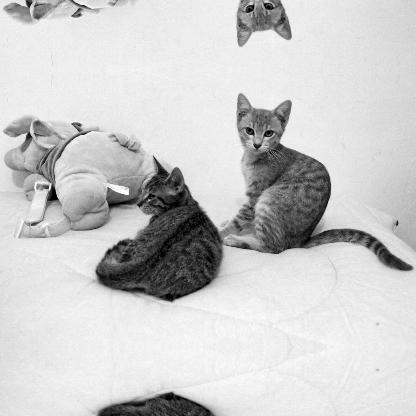Cat: (219, 90, 413, 270), (96, 153, 224, 303), (219, 0, 414, 49)
